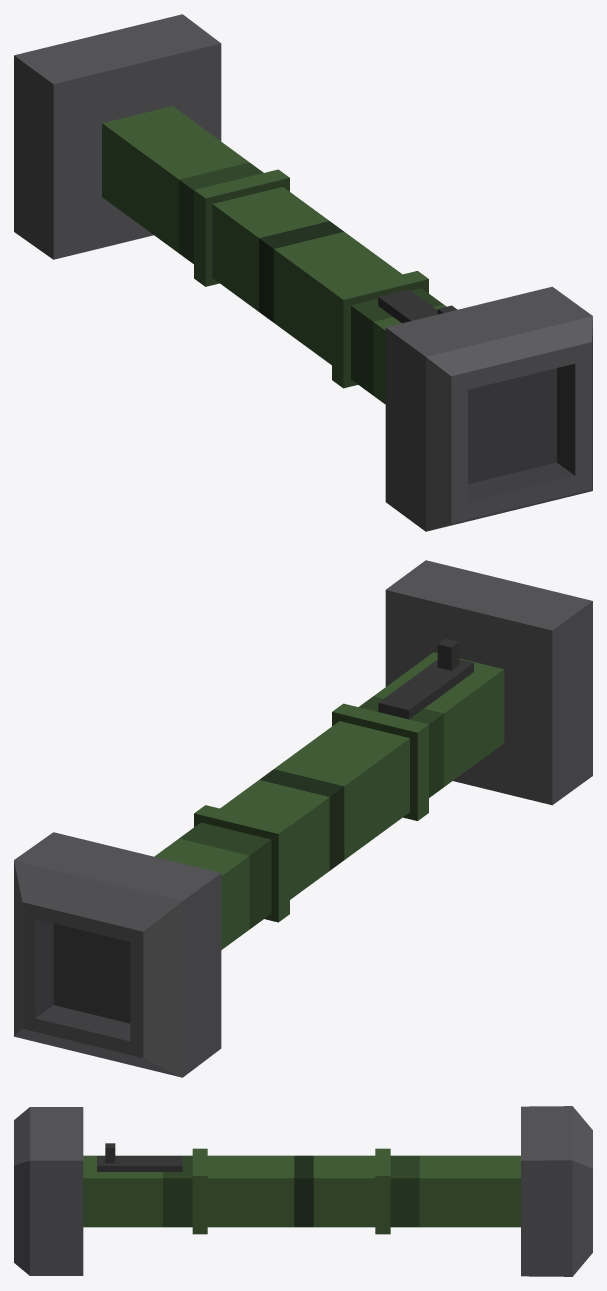
Rendered from rocket-launcher.obj.
3 renders of one model, top to bottom at view 1: azimuth 30°, elevation 25°; view 2: azimuth 150°, elevation 25°; view 3: azimuth 270°, elevation 25°, orthographic. The views are drawn at different scales.
Parts seen in each view (by area): view 1: rocket-launcher.obj; view 2: rocket-launcher.obj; view 3: rocket-launcher.obj.
Boxes of the visible parts, x1,y1,x2,y2 form: rocket-launcher.obj: (14,14,592,531); rocket-launcher.obj: (14,560,592,1077); rocket-launcher.obj: (14,1106,592,1276).
Size of the model in its own units: 0.4136 by 0.4136 by 1.86.
